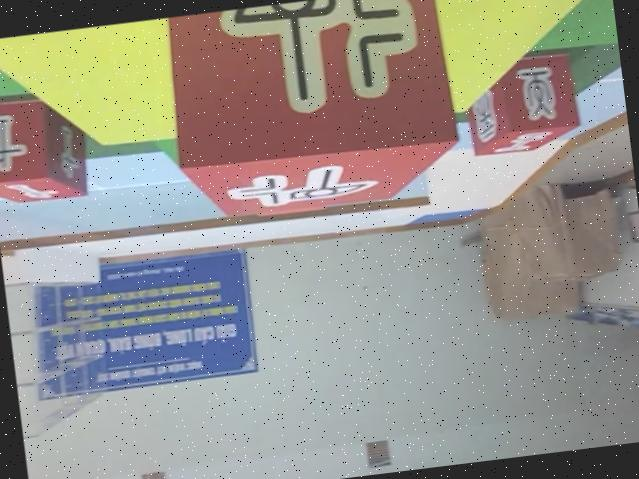R2 Fake: (457, 49, 584, 162)
R2 Real: (155, 0, 467, 228), (0, 88, 92, 208)
